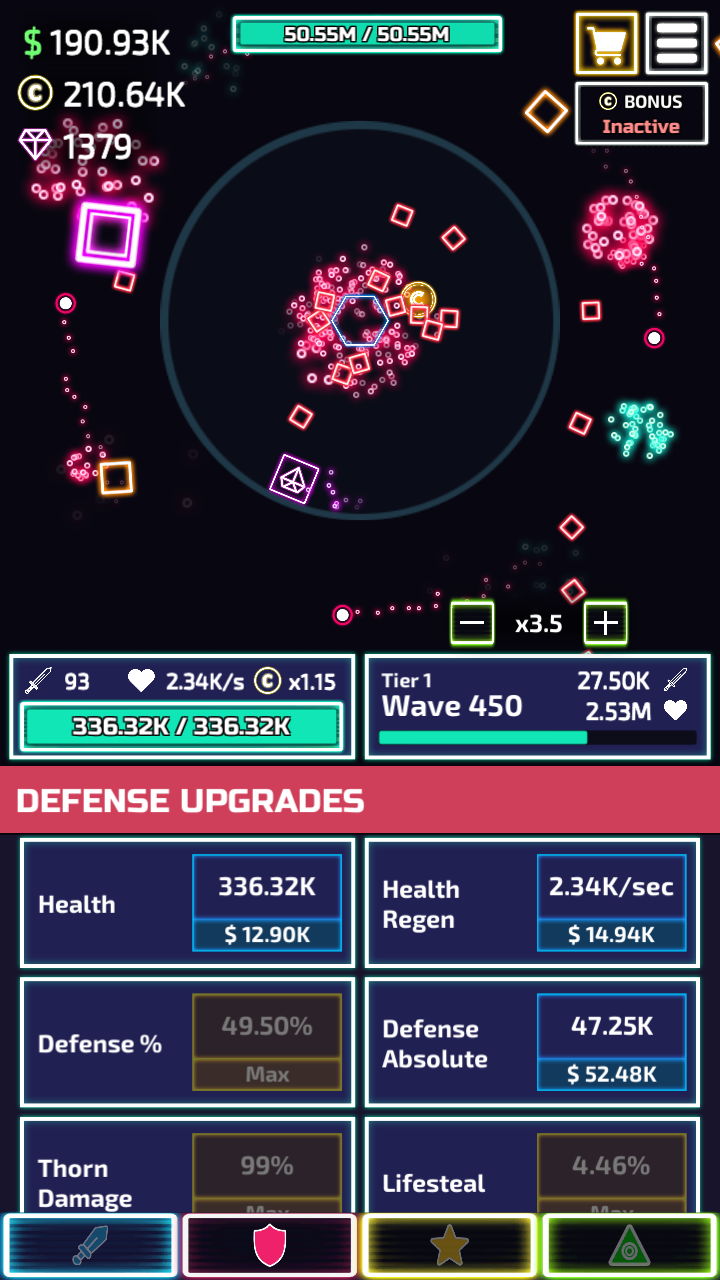B_Floating_Gem: (267, 445, 320, 507)
B_Menu_Closed: (568, 9, 710, 78)
B_Slot: (361, 838, 696, 963), (18, 838, 349, 963), (18, 979, 354, 1100), (367, 979, 700, 1100), (23, 1120, 356, 1209), (363, 1118, 696, 1207)
B_Slot_Button: (532, 997, 689, 1091), (538, 860, 689, 952), (190, 999, 340, 1090), (189, 862, 340, 949), (534, 1139, 691, 1211), (189, 1136, 342, 1207)
B_Slot_Label: (370, 1009, 498, 1079), (27, 1152, 148, 1216), (372, 871, 475, 938), (28, 1022, 173, 1068), (370, 1157, 493, 1203), (23, 879, 135, 924)
B_Slot_Maxed: (187, 986, 340, 1091), (183, 1136, 342, 1211), (534, 1136, 687, 1209)
B_Slot_Price: (203, 911, 319, 951), (550, 913, 662, 954), (550, 1057, 659, 1090)
B_Slot_Value: (532, 860, 682, 906), (205, 1008, 322, 1043), (201, 869, 328, 901), (552, 1006, 659, 1043), (210, 1143, 304, 1182), (555, 1150, 657, 1184)
B_Tab_Defense: (0, 771, 720, 831)
